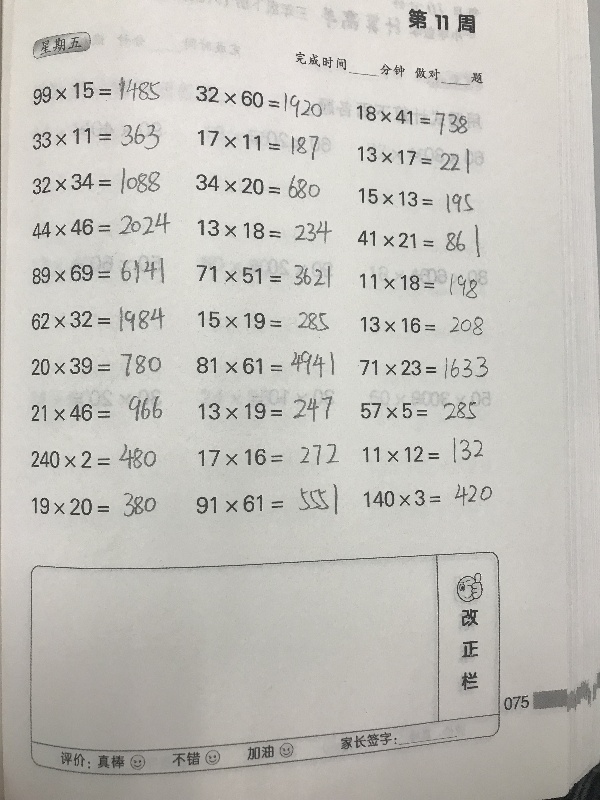equation: (192, 480, 341, 516), (354, 222, 484, 261), (29, 252, 168, 288), (355, 265, 490, 301), (28, 165, 163, 198), (360, 431, 486, 466), (29, 121, 162, 154), (28, 304, 169, 335), (194, 304, 334, 335), (193, 259, 333, 290), (29, 74, 163, 106), (192, 85, 334, 115), (28, 441, 160, 473), (28, 212, 173, 241), (194, 440, 338, 469), (194, 128, 322, 160), (192, 168, 324, 199), (193, 213, 329, 243), (193, 345, 329, 375), (30, 392, 166, 422), (198, 392, 334, 422), (359, 352, 488, 383), (28, 488, 156, 519), (360, 481, 495, 510), (354, 143, 472, 176), (27, 350, 163, 378), (353, 104, 472, 136), (355, 186, 478, 215), (354, 395, 477, 423), (356, 312, 484, 336)
